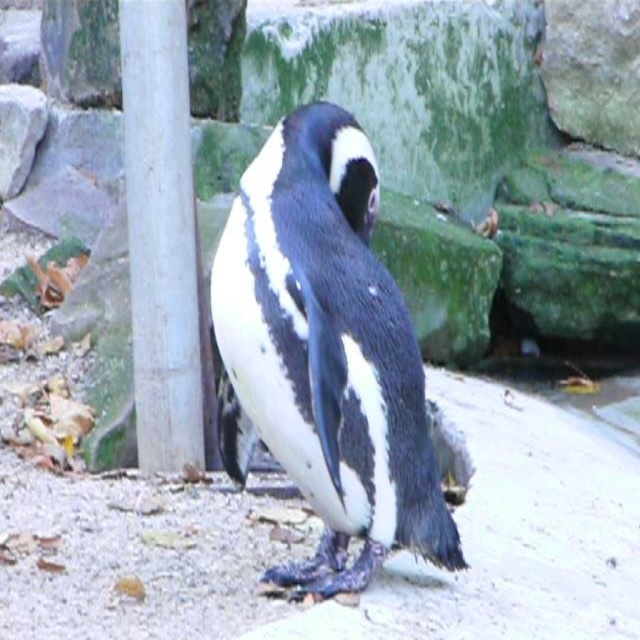Penguin: (209, 100, 468, 605)
